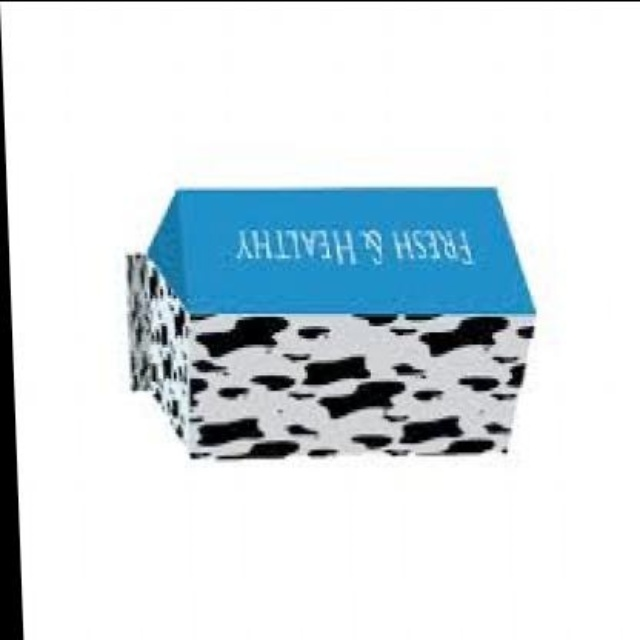trash: (128, 188, 534, 457)
